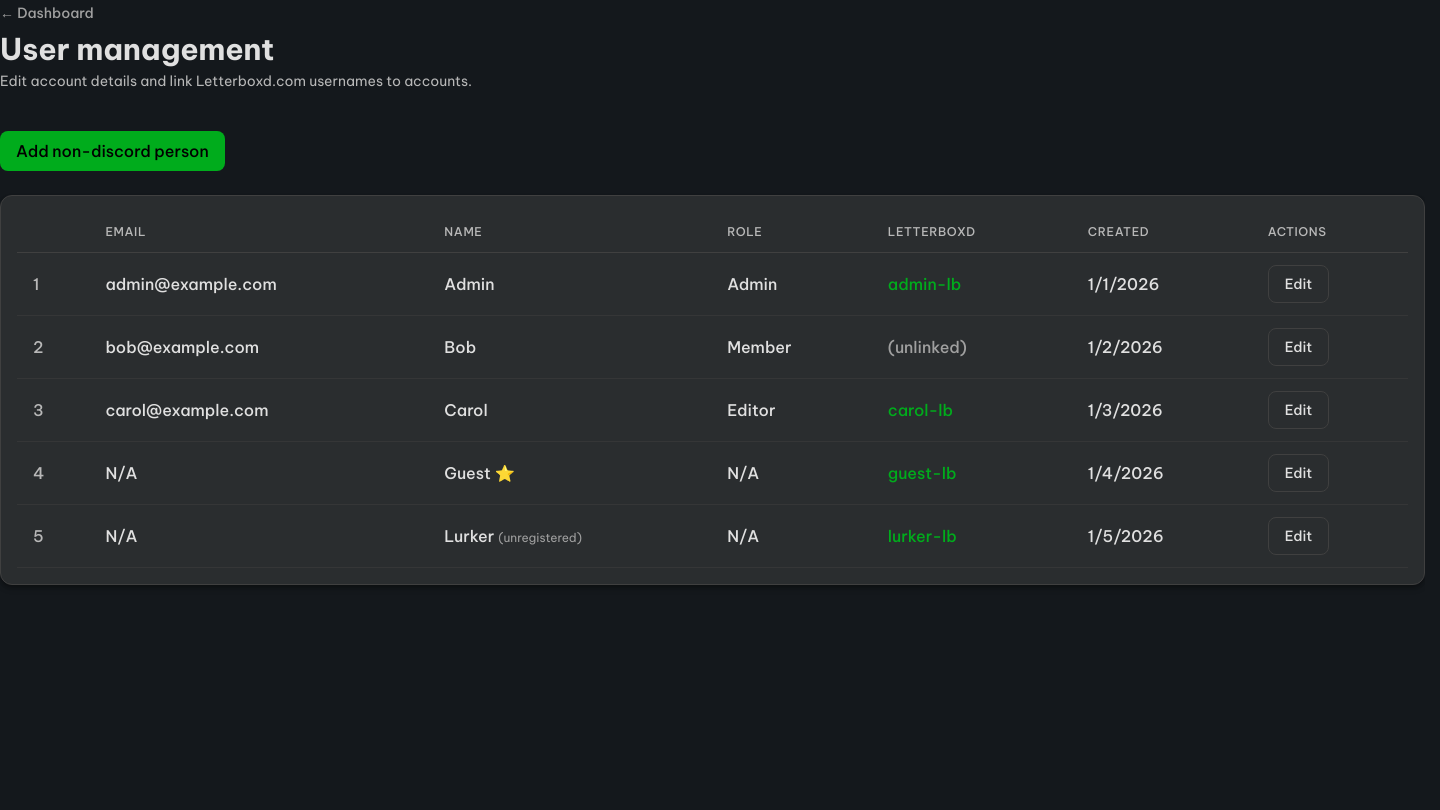
Scenario: UserAdmin — non-discord profiles › adds a person from the modal and lists the new row
Click the button "Add non-discord person": (112, 151) [0,131,225,171]
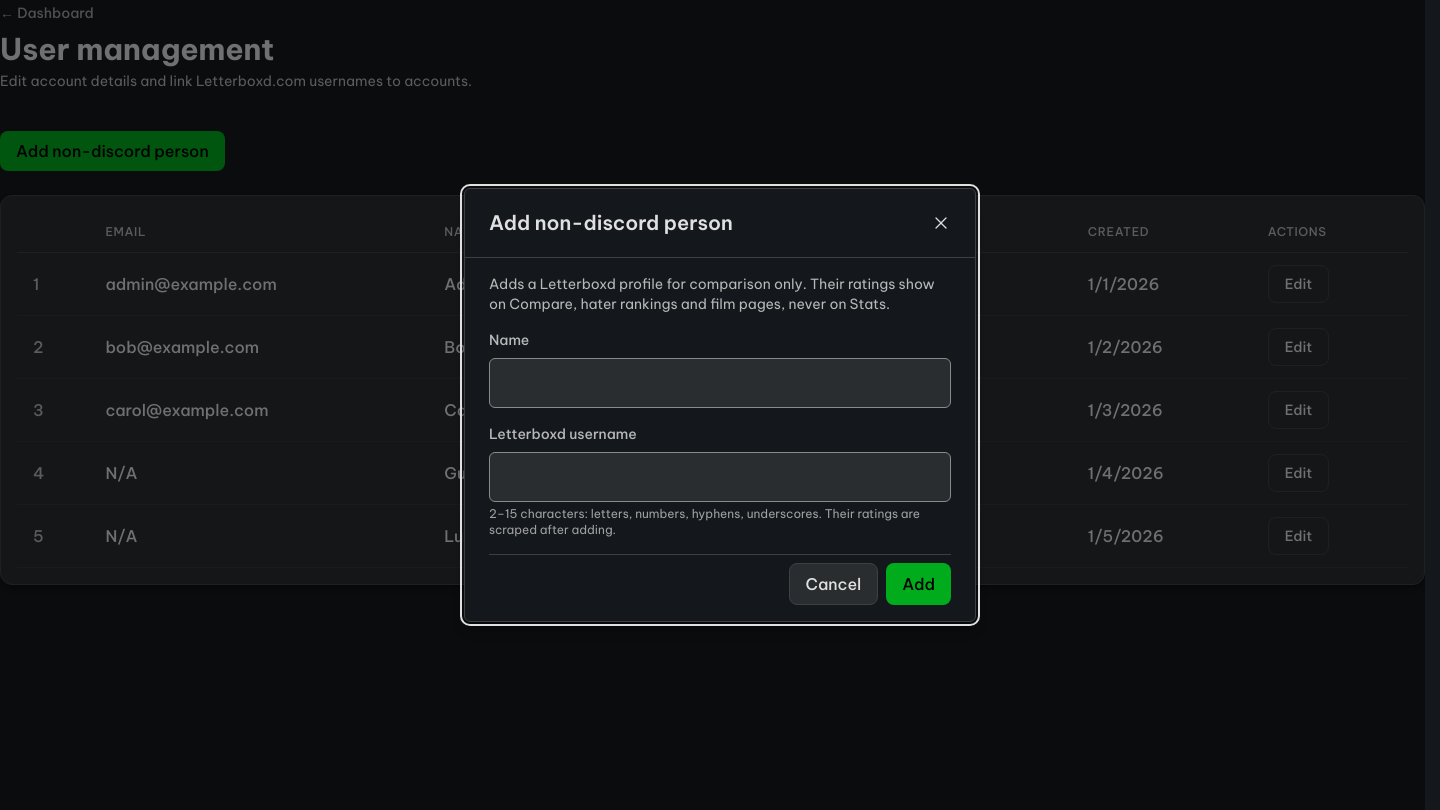
In the field labelled "Name": (720, 383) [489,358,951,408], type "  Newbie "
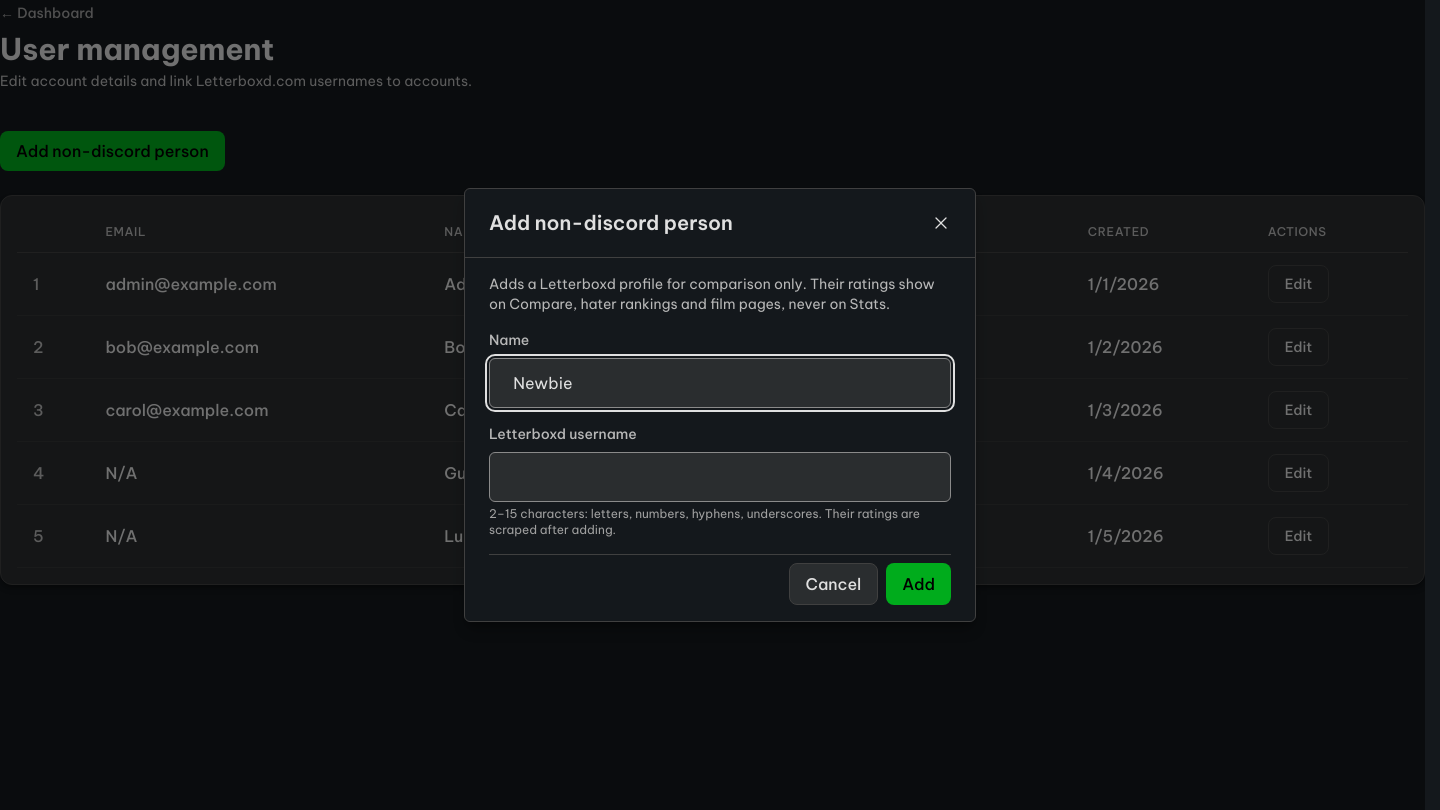
In the field labelled "Letterboxd username": (720, 477) [489,452,951,502], type "NewBie"
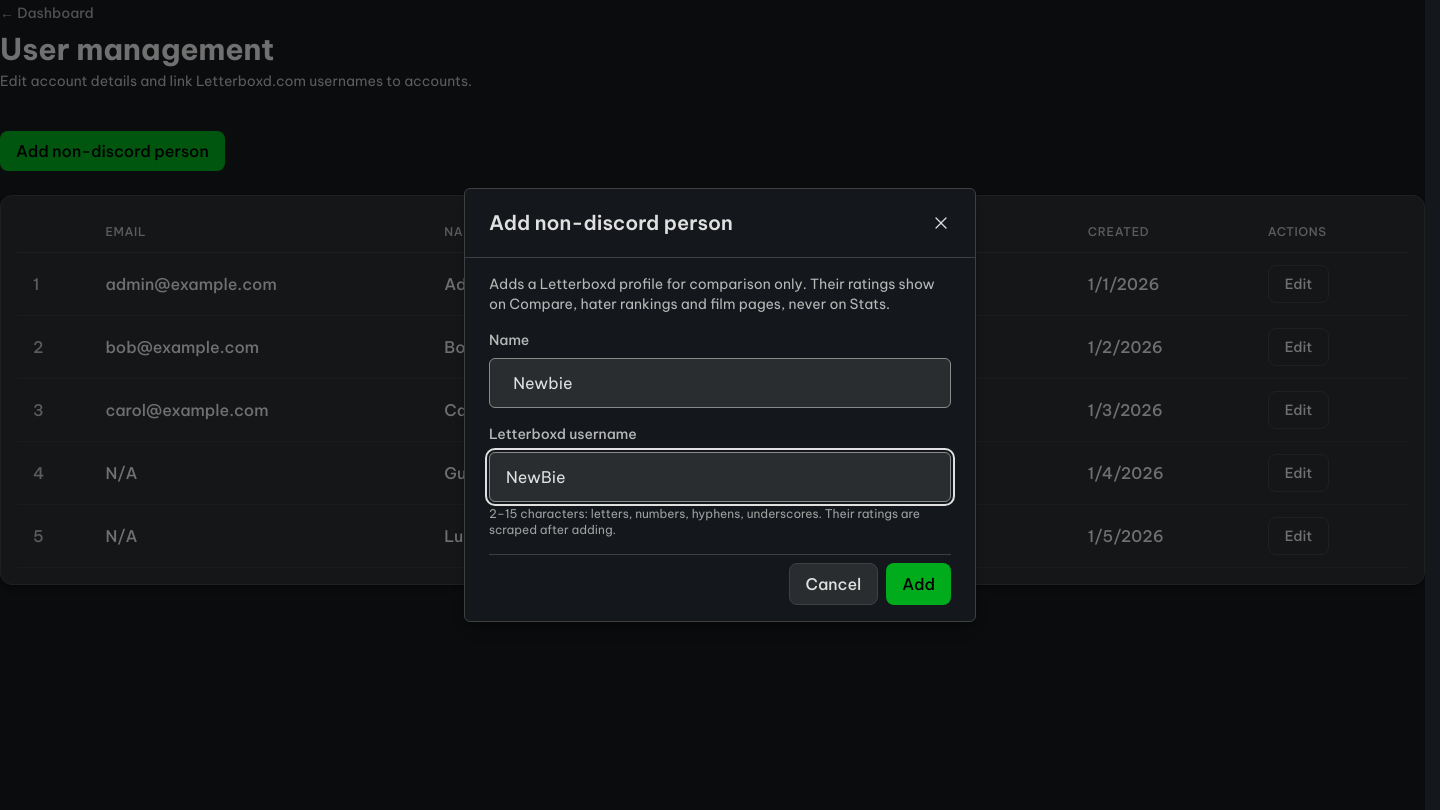
Click the button "Add": (919, 584) [886,563,951,605]
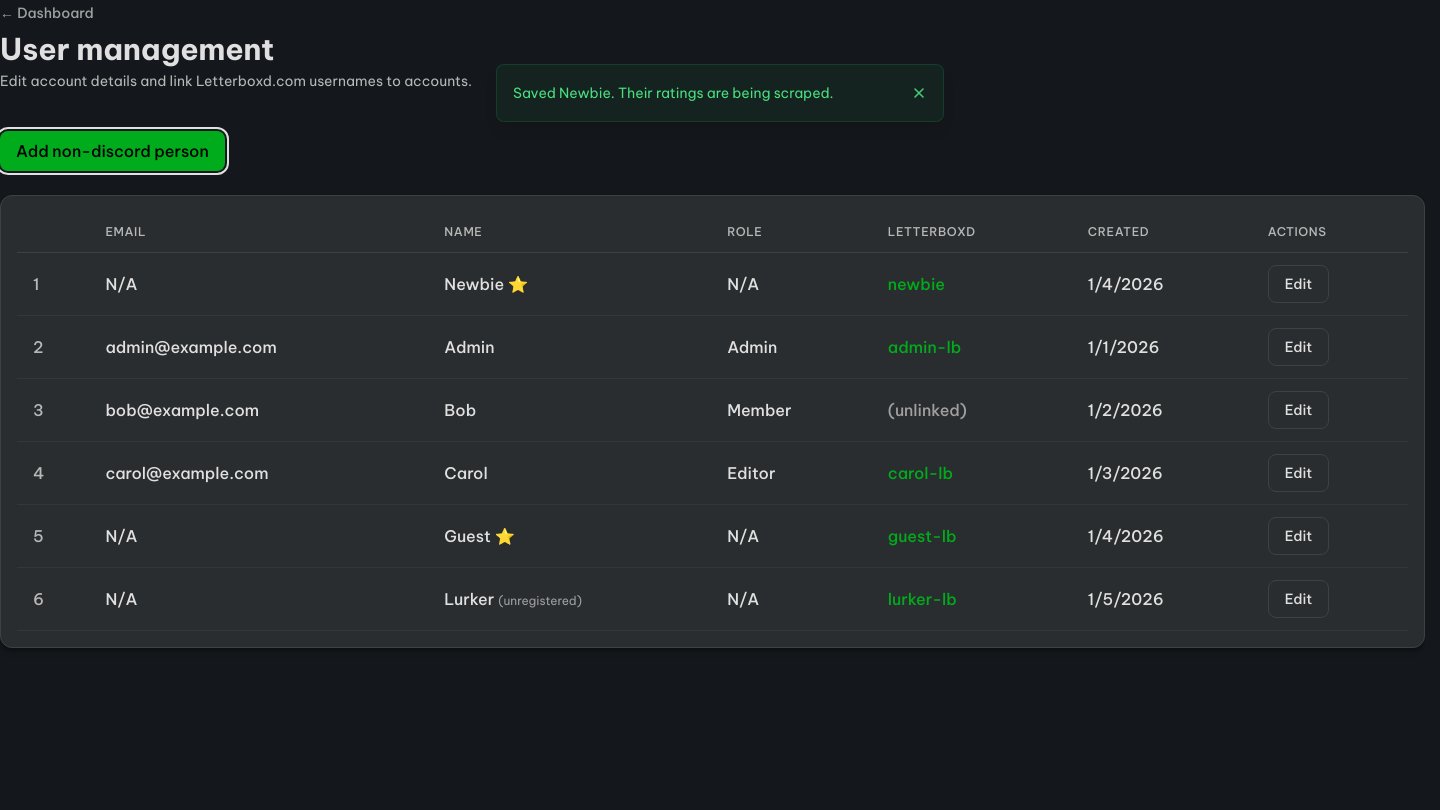
Now the text "Newbie" is shown, box [444,274,504,294]
Now the dialog is gone
